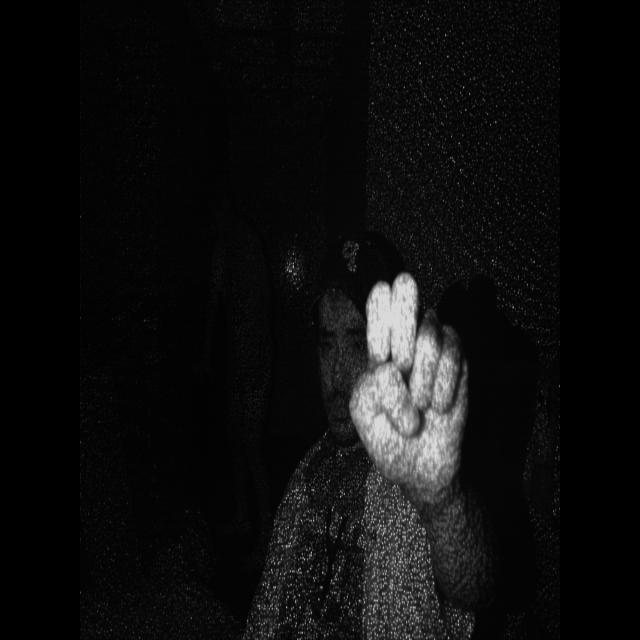T: (341, 247, 476, 498)
